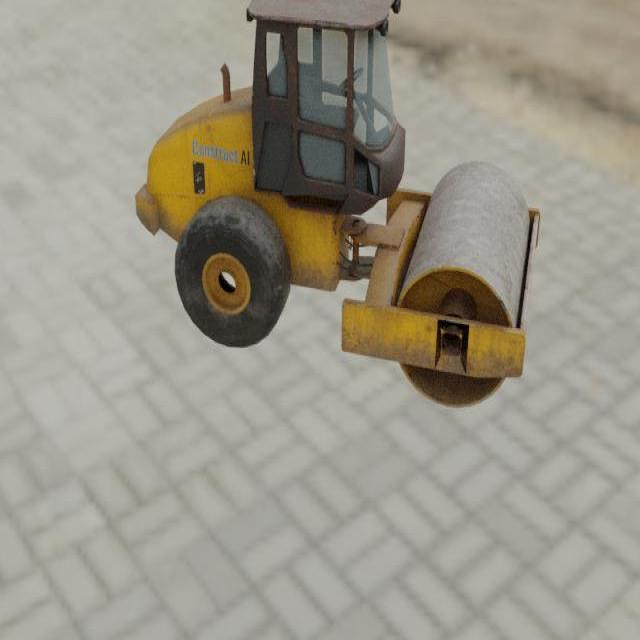Roller: (134, 0, 541, 409)
